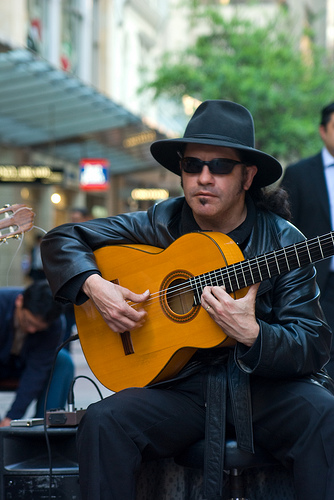guitar: (72, 222, 334, 397)
